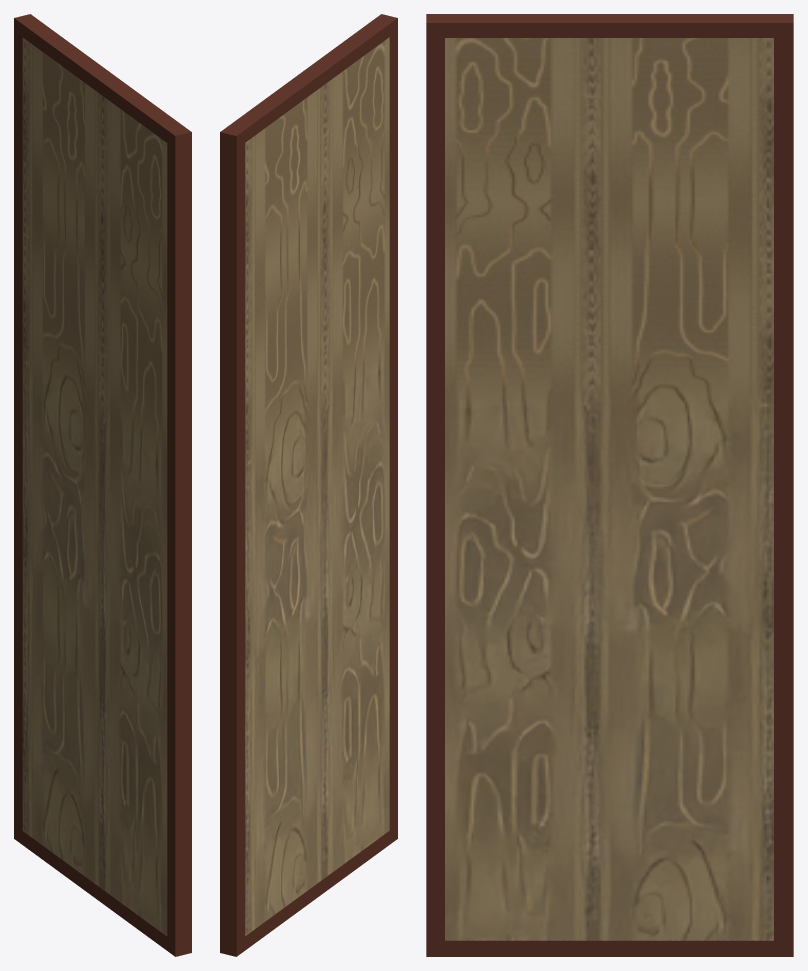
File: SM_WallPaper01G.fbx
The picture shows the model from 3 angles, left to right: view 1: azimuth 30°, elevation 25°; view 2: azimuth 150°, elevation 25°; view 3: azimuth 270°, elevation 25°; orthographic projection. The views are drawn at different scales.
Parts seen in each view (by area): view 1: SM_WallPaper01G; view 2: SM_WallPaper01G; view 3: SM_WallPaper01G.
Boxes of the visible parts, x1,y1,x2,y2 form: SM_WallPaper01G: [14, 14, 191, 956]; SM_WallPaper01G: [220, 14, 397, 956]; SM_WallPaper01G: [426, 14, 793, 956].
Size of the model in its own units: 3.53 by 59.99 by 168.
Materials: 2 (2 with a texture image).
